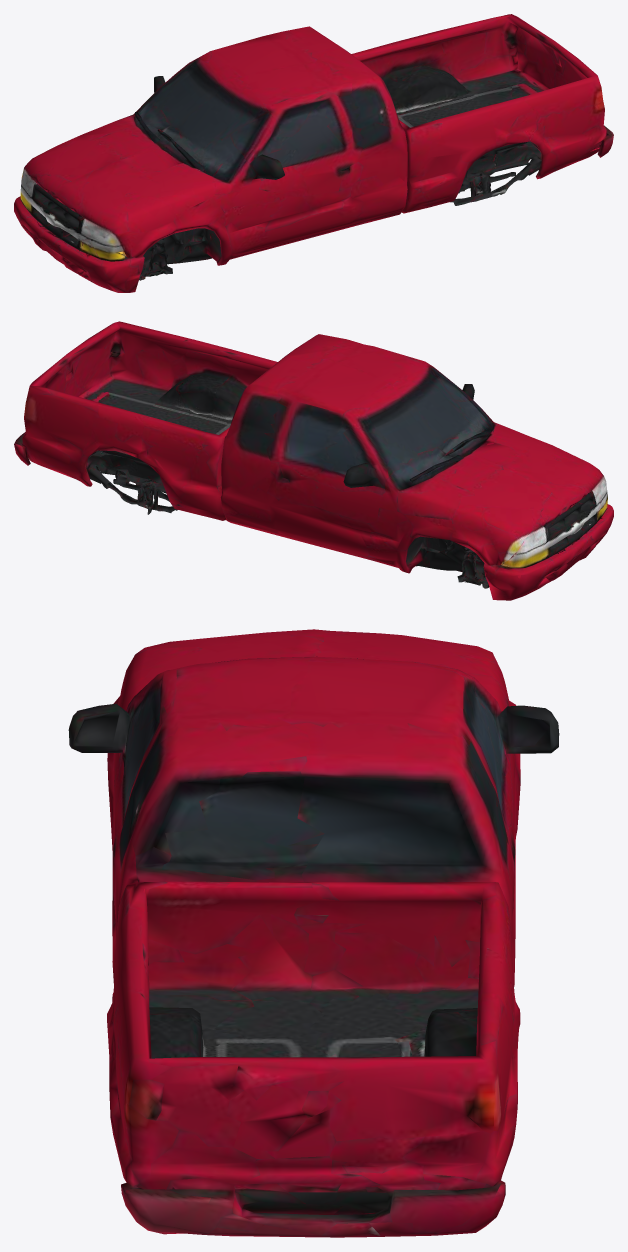
Rendered from maple-hauler.glb.
3 views of the same model, one above another, from view 1: azimuth 30°, elevation 25°; view 2: azimuth 150°, elevation 25°; view 3: azimuth 270°, elevation 25° (orthographic). The views are drawn at different scales.
Size of the model in its own units: 1.9 by 0.5604 by 0.7669.
1 material, 1 textured.
